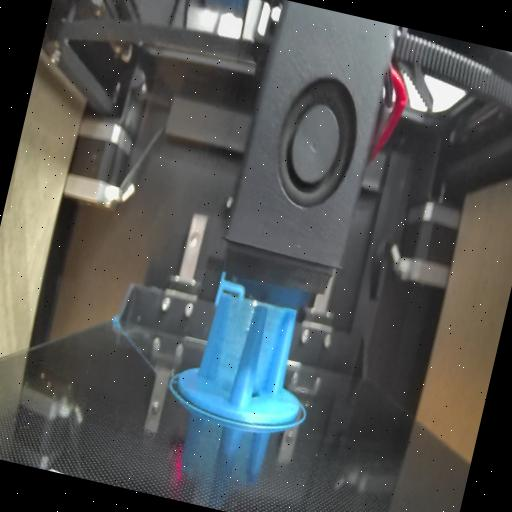stringing: (200, 292, 254, 402), (248, 306, 288, 403)
